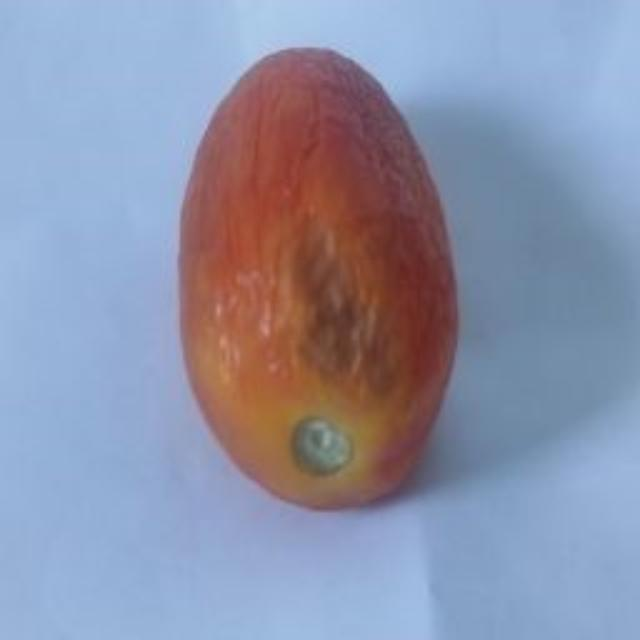defect: (173, 44, 467, 516)
